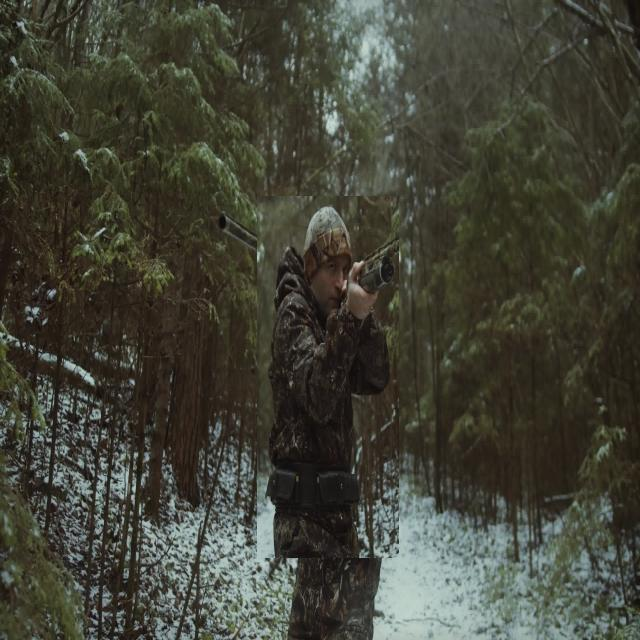poacher: (258, 196, 400, 558)
weapon: (222, 218, 302, 275)
